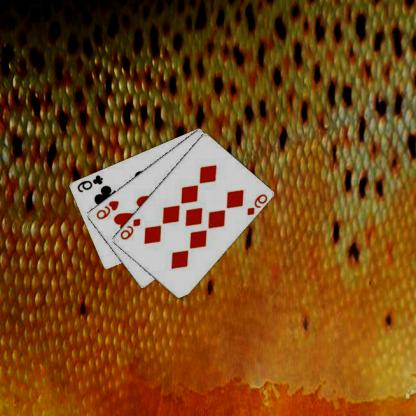6C: (76, 172, 106, 193)
9D: (119, 216, 143, 241), (246, 191, 270, 216)
9H: (95, 198, 121, 221)
